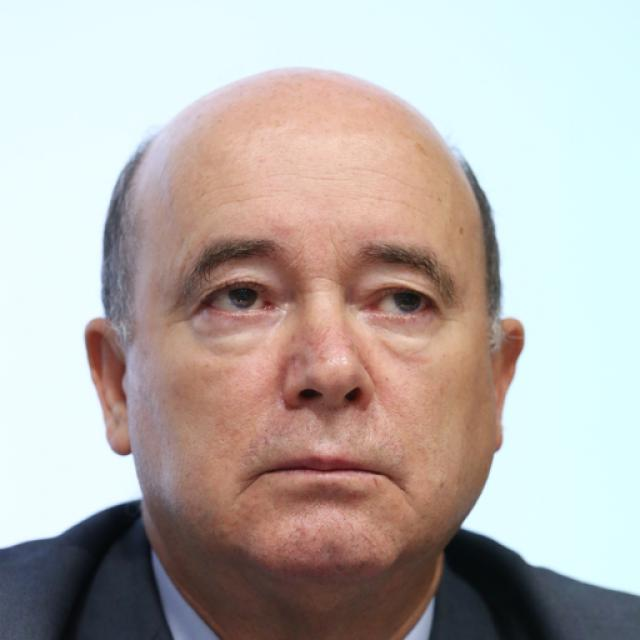Pigmentation: (287, 309, 364, 372)
